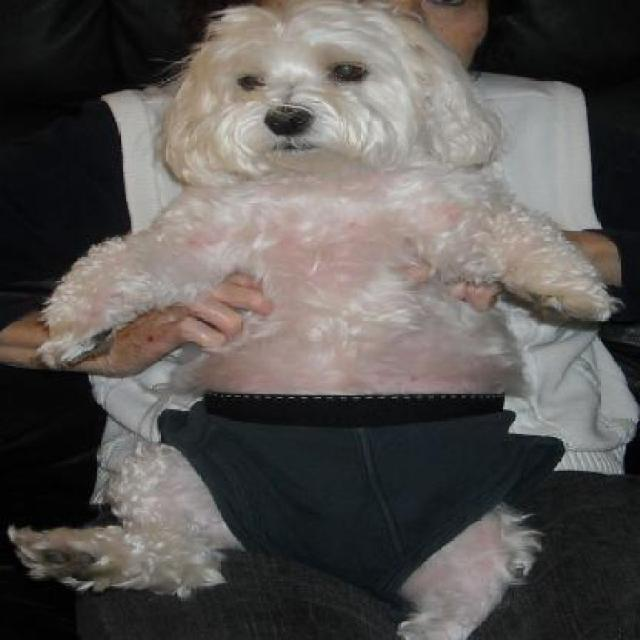Dog: (6, 0, 629, 638)
